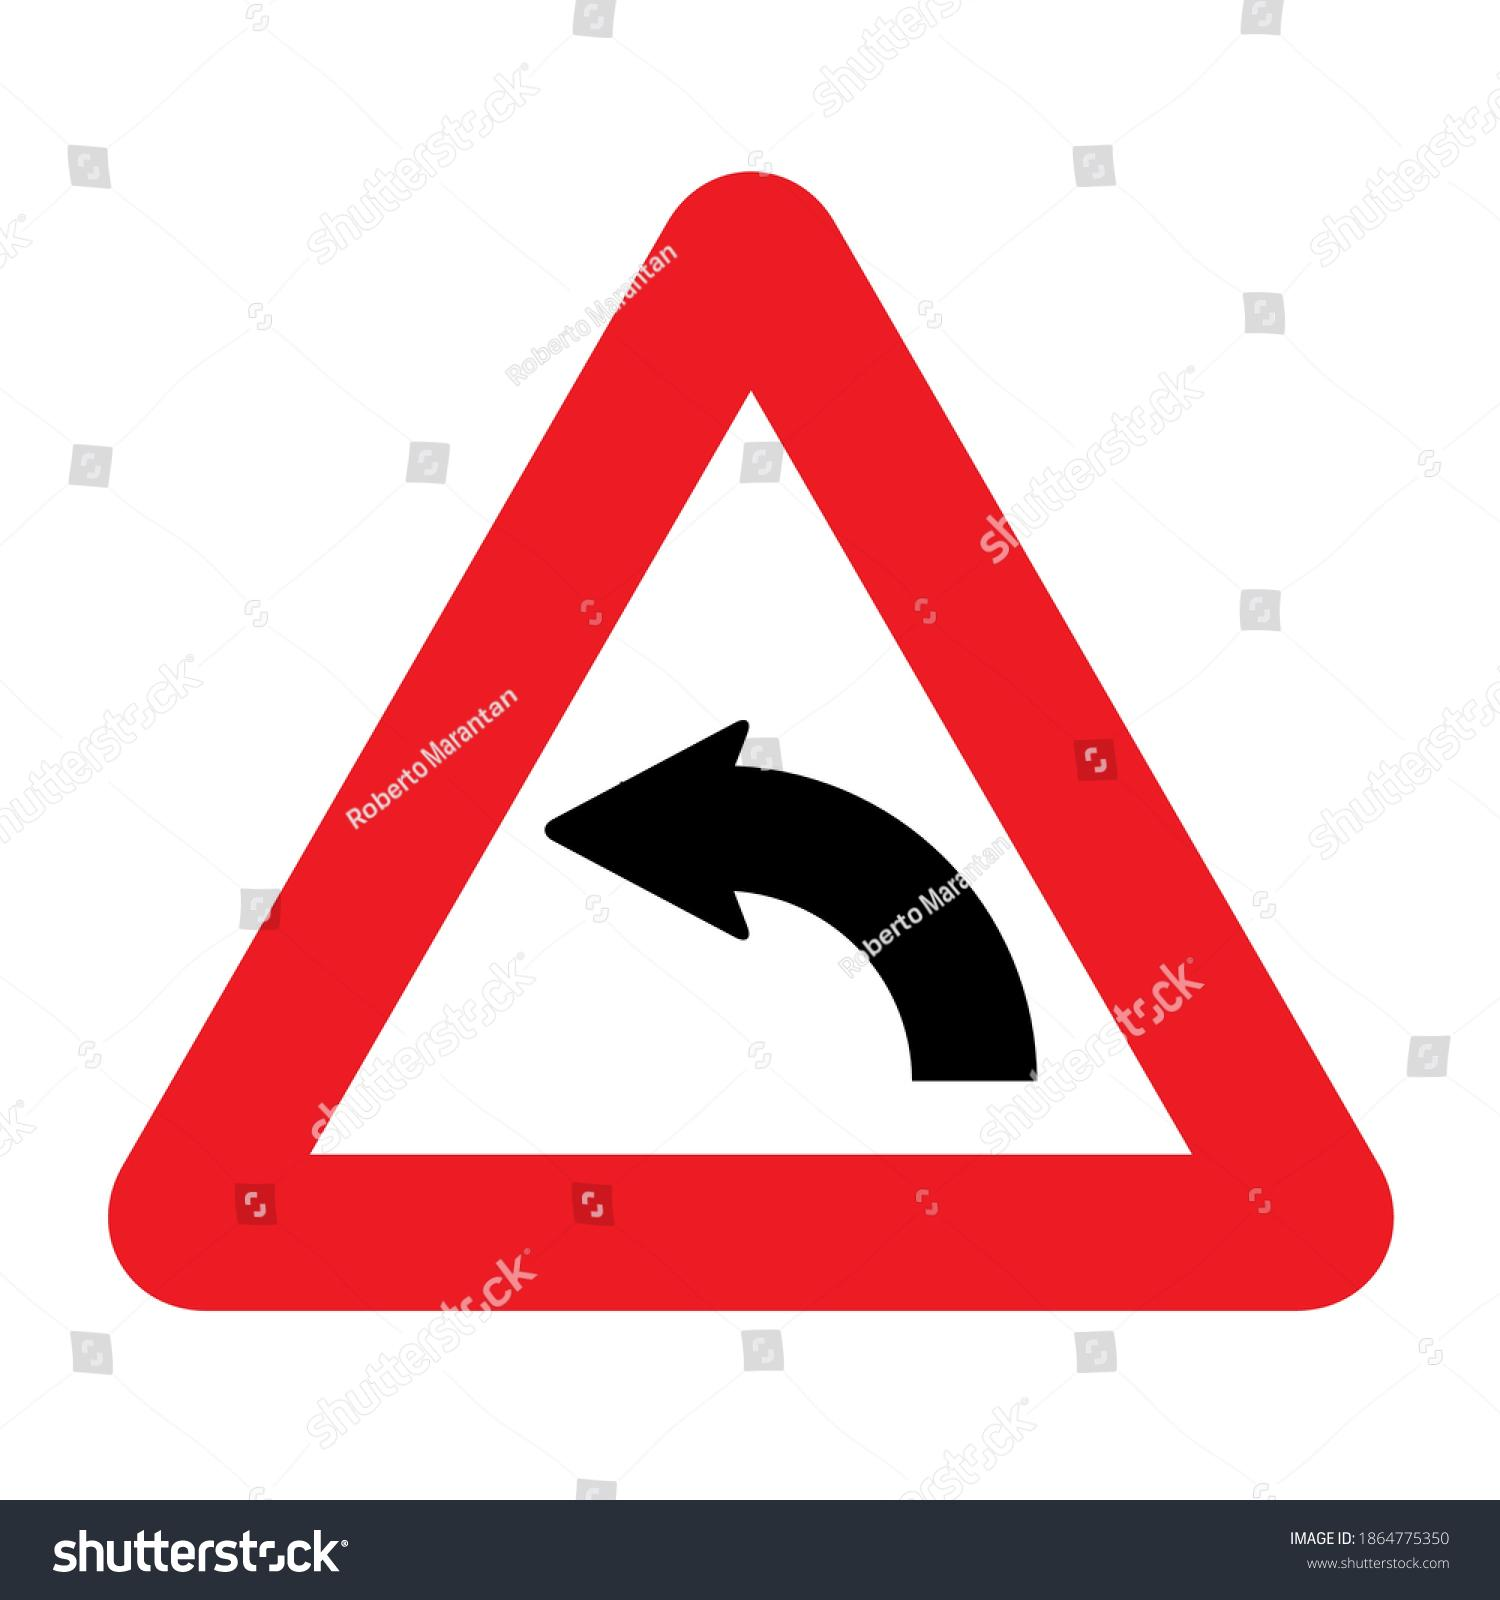Left hand curve: (144, 190, 1500, 1394)
